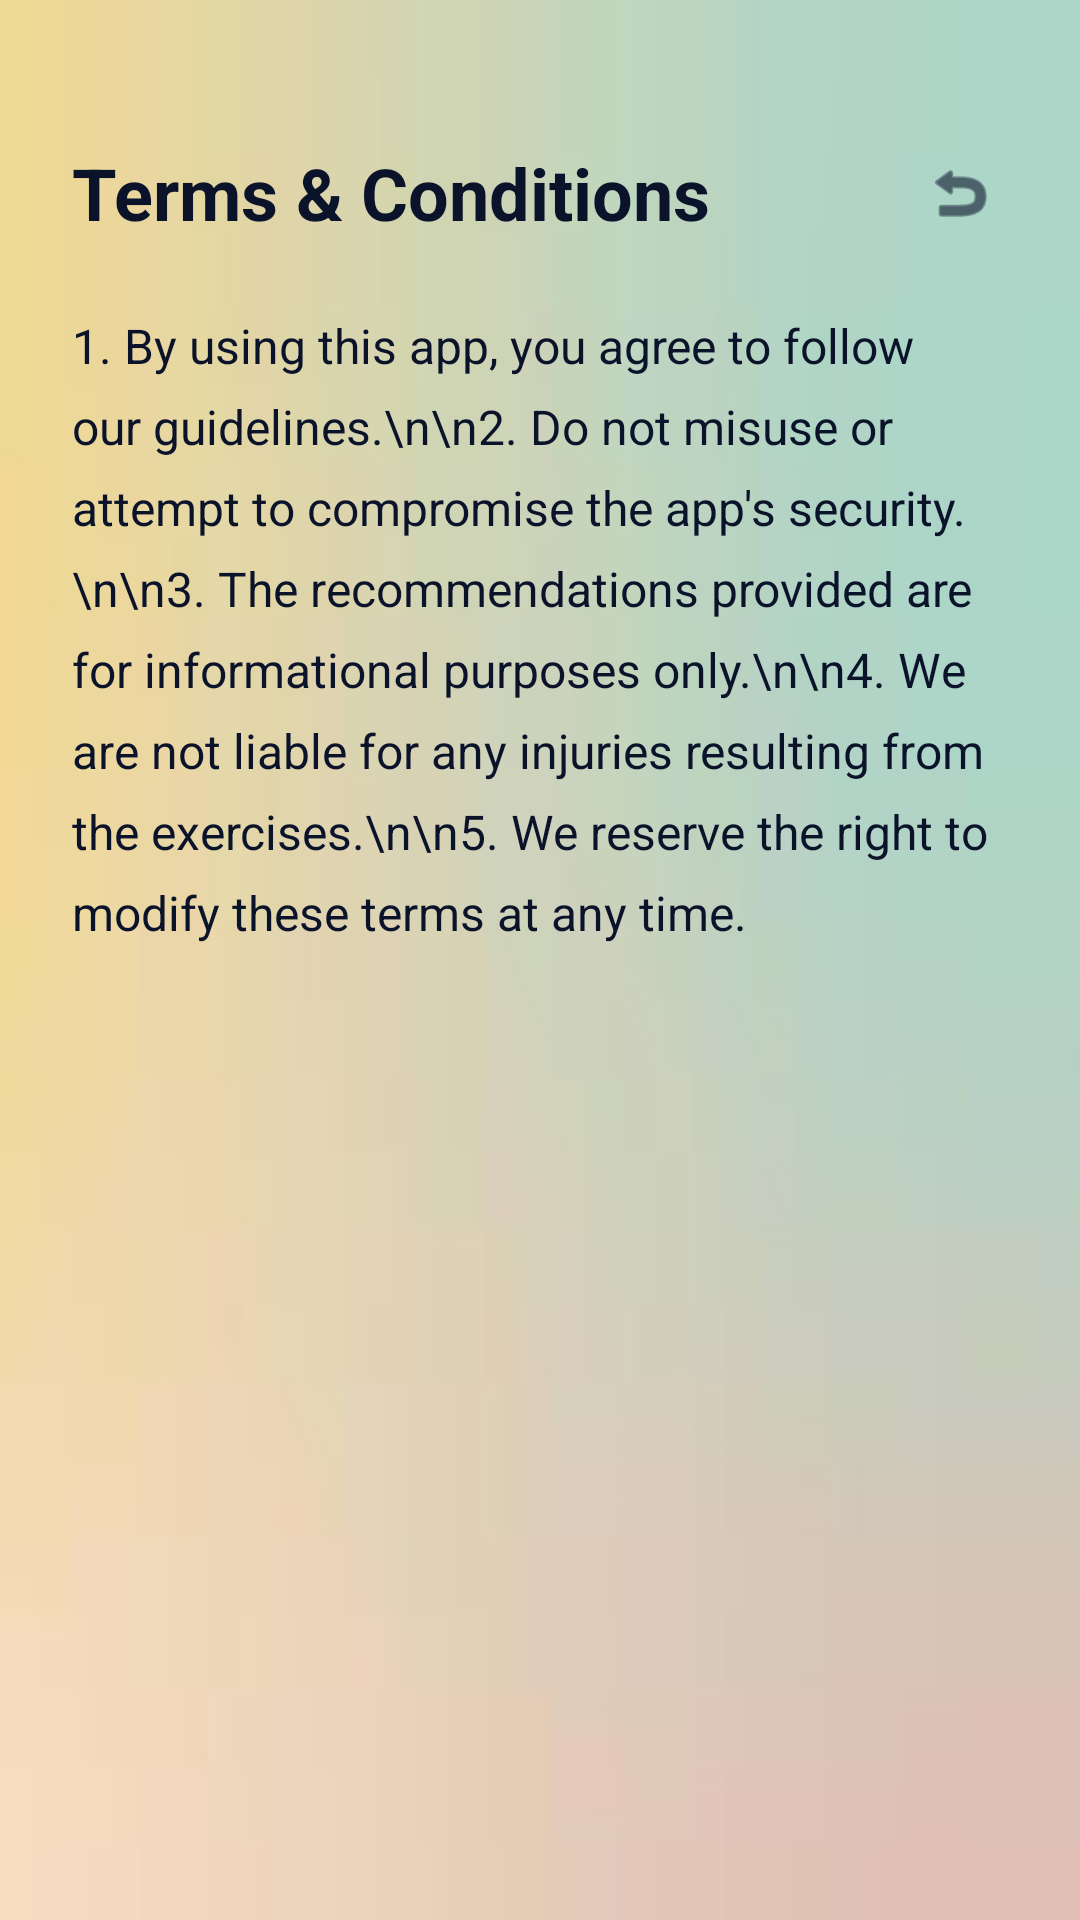

Named icons in this screenshot (1080w x 1920h) and their bounding boxes, [x1=x1, y1=y1, x2=x2, y2=y2]:
revert: [x1=935, y1=170, x2=987, y2=217]
